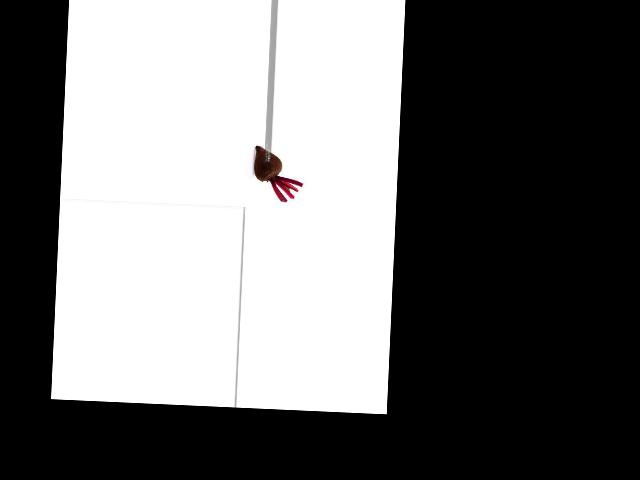beet: (252, 145, 304, 202)
